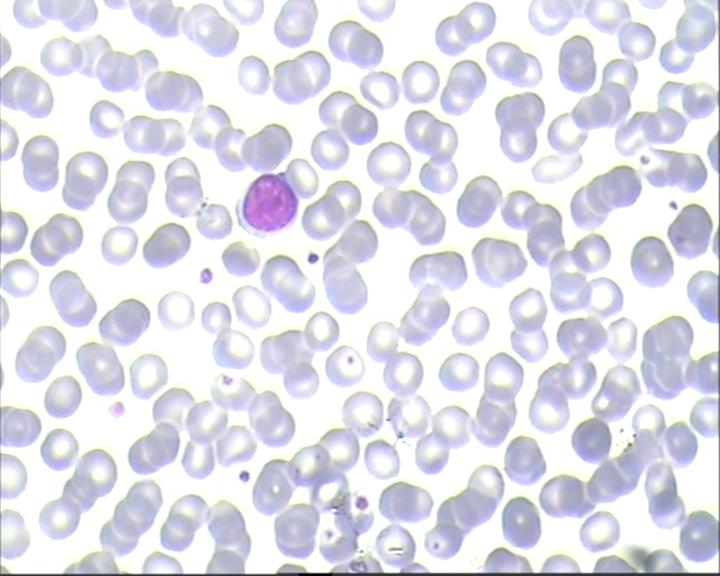lymp: (231, 170, 304, 240)
